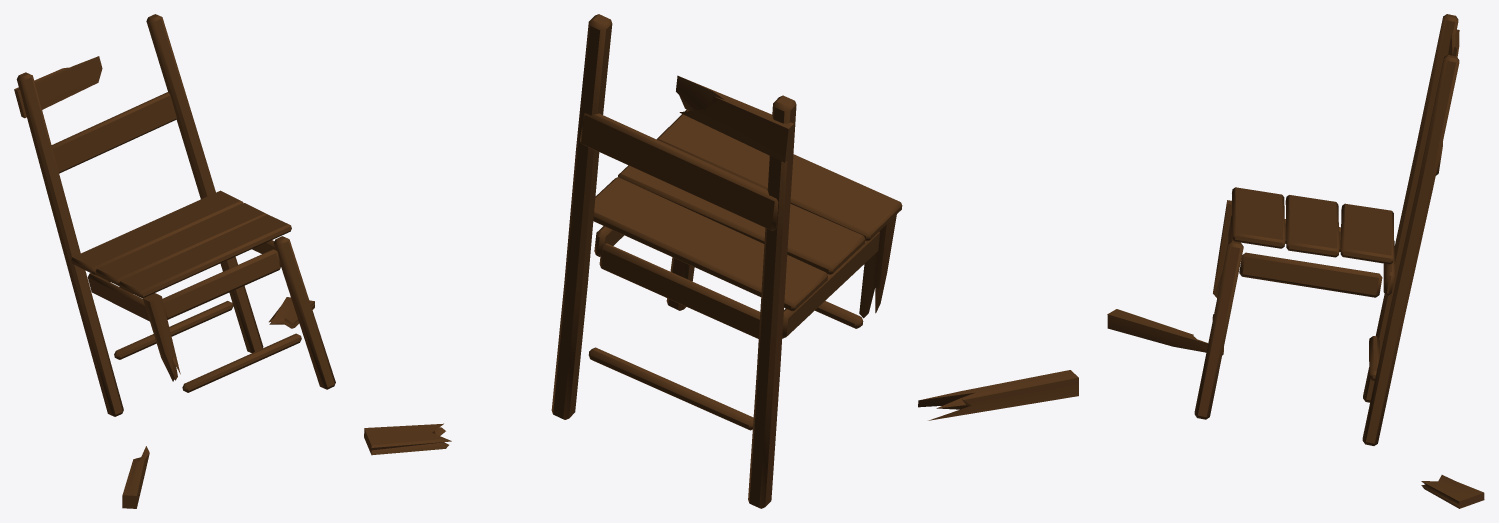
File: stuhl_kaputt.glb
The picture shows the model from 3 angles, left to right: view 1: azimuth 30°, elevation 25°; view 2: azimuth 150°, elevation 25°; view 3: azimuth 270°, elevation 25°; orthographic projection. The views are drawn at different scales.
Parts seen in each view (by area): view 1: stuhl_kaputt; view 2: stuhl_kaputt; view 3: stuhl_kaputt.
Part boxes in pixels (box(x1,y1,x2,y2)): stuhl_kaputt: box(14, 14, 335, 508); stuhl_kaputt: box(364, 14, 1078, 508); stuhl_kaputt: box(1107, 14, 1484, 508).
Bounding box in the file's own units: 1.06 × 1.03 × 0.9092.
